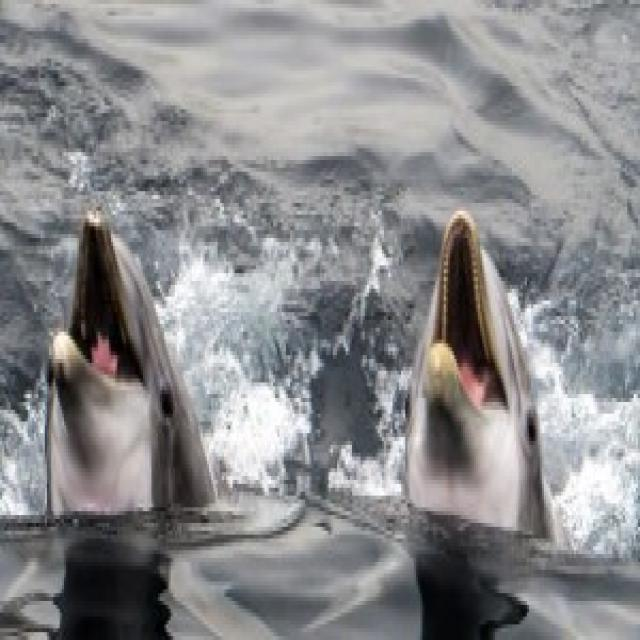Dolphin: (402, 195, 581, 606), (31, 211, 226, 566)
